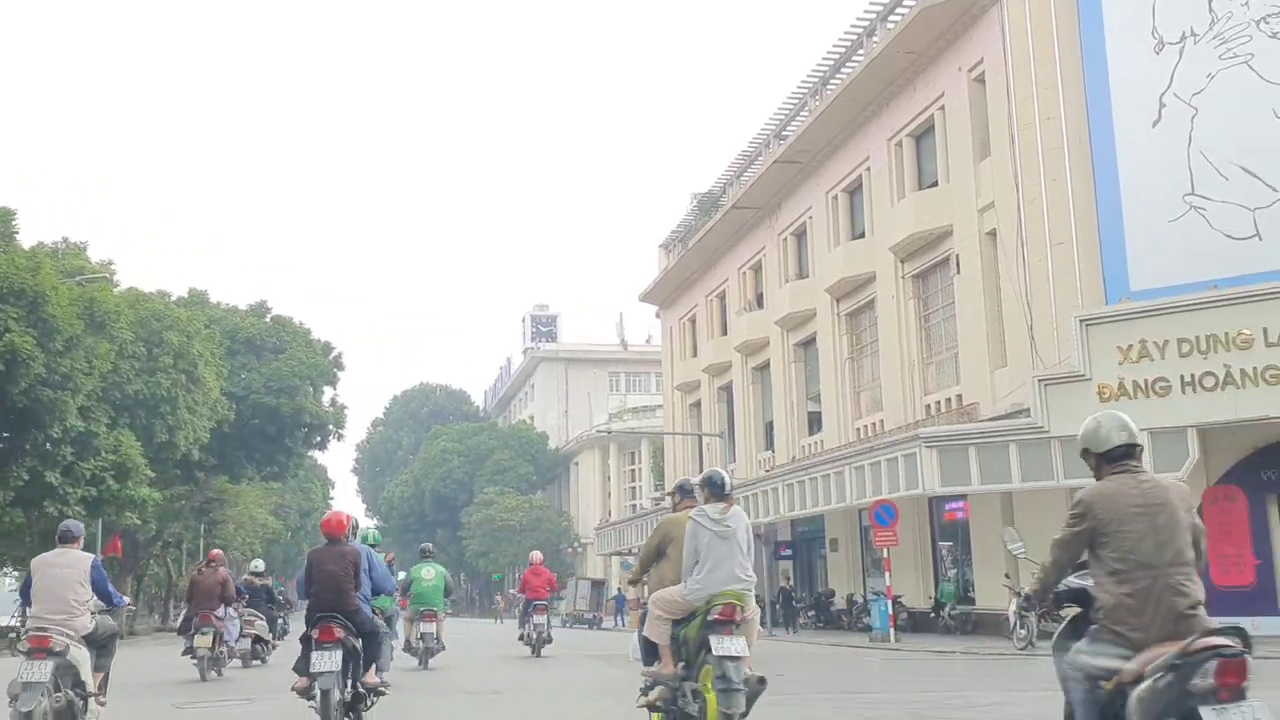person: (708, 631, 751, 658)
